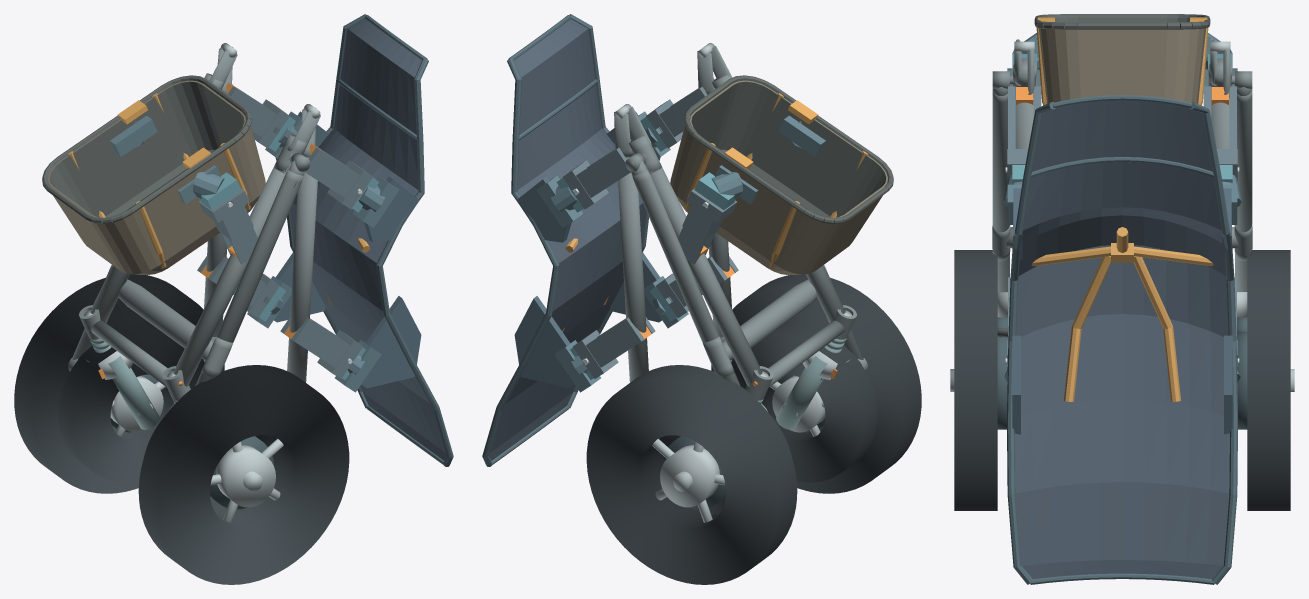
The model's file is D34_w380_state3_wheel_L.glb.
3 views of the same model, side by side, from view 1: azimuth 30°, elevation 25°; view 2: azimuth 150°, elevation 25°; view 3: azimuth 270°, elevation 25° (orthographic). The views are drawn at different scales.
Parts seen in each view (by area): view 1: D34_Upper, RL_tire.013, D34_Lower, RR_tire.013, FR_tire.013, main_upper_-1.001, main_lower_-1.001, V46_rear_leg_-1, D34_Lower_Mount_L, RL_sealed_hub.013, Universal_Cabin_Receiver_H_-1, V46_rearbar (+13 smaller); view 2: D34_Upper, RR_tire.013, D34_Lower, RL_tire.013, FL_tire.013, main_upper_1.001, main_lower_1.001, V46_rear_leg_1, D34_Lower_Mount_L, RR_sealed_hub.013, Universal_Cabin_Receiver_H_1, V46_rearbar (+16 smaller); view 3: D34_Upper, D34_Lower, RL_tire.013, RR_tire.013, V46_rear_leg_1, V46_rear_leg_-1, D34_Upper_MidMount, Universal_Cabin_Receiver_M_1, Universal_Cabin_Receiver_M_-1, RR_brake_backplate.013, RL_brake_backplate.013, main_upper_1.001 (+4 smaller).
Boxes of the visible parts, <box> form: D34_Upper: <box>274,14,453,466</box>; RL_tire.013: <box>138,365,349,584</box>; D34_Lower: <box>42,75,265,275</box>; RR_tire.013: <box>14,274,224,493</box>; FR_tire.013: <box>58,323,204,482</box>; main_upper_-1.001: <box>287,157,317,382</box>; main_lower_-1.001: <box>173,164,290,386</box>; V46_rear_leg_-1: <box>195,170,303,385</box>; D34_Lower_Mount_L: <box>110,115,241,209</box>; RL_sealed_hub.013: <box>216,445,275,507</box>; Universal_Cabin_Receiver_H_-1: <box>280,317,362,378</box>; V46_rearbar: <box>118,279,213,360</box>; D34_Upper: <box>482,14,661,466</box>; RR_tire.013: <box>586,365,797,584</box>; D34_Lower: <box>670,75,893,275</box>; RL_tire.013: <box>711,274,921,493</box>; FL_tire.013: <box>731,323,877,482</box>; main_upper_1.001: <box>618,157,648,382</box>; main_lower_1.001: <box>645,164,762,386</box>; V46_rear_leg_1: <box>632,170,740,385</box>; D34_Lower_Mount_L: <box>694,115,825,209</box>; RR_sealed_hub.013: <box>660,445,719,507</box>; Universal_Cabin_Receiver_H_1: <box>573,317,655,378</box>; V46_rearbar: <box>722,279,817,360</box>; D34_Upper: <box>1007,95,1237,584</box>; D34_Lower: <box>1034,14,1210,105</box>; RL_tire.013: <box>954,250,997,510</box>; RR_tire.013: <box>1247,250,1290,510</box>; V46_rear_leg_1: <box>1235,89,1252,291</box>; V46_rear_leg_-1: <box>992,89,1009,291</box>; D34_Upper_MidMount: <box>1003,165,1241,224</box>; Universal_Cabin_Receiver_M_1: <box>1203,86,1237,181</box>; Universal_Cabin_Receiver_M_-1: <box>1007,86,1041,181</box>; RR_brake_backplate.013: <box>1237,331,1247,429</box>; RL_brake_backplate.013: <box>997,337,1007,429</box>; main_upper_1.001: <box>1211,98,1231,242</box>.
Bounding box in the file's own units: 0.6444 × 0.7973 × 0.4748.
